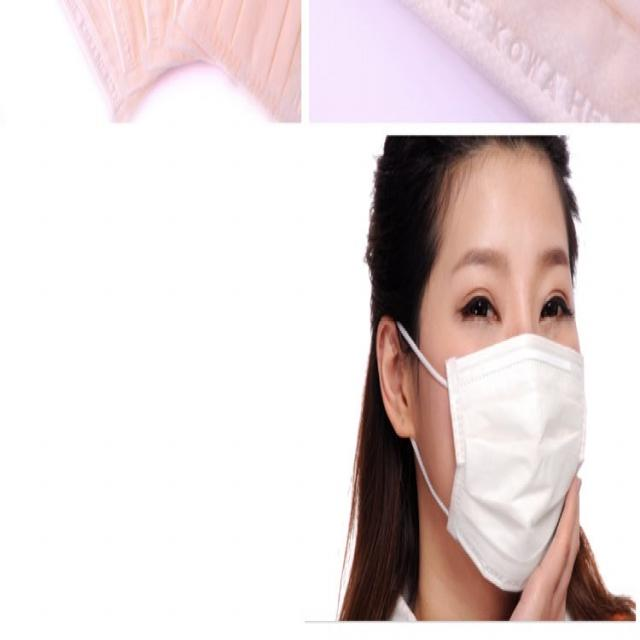mask: (418, 163, 584, 588)
